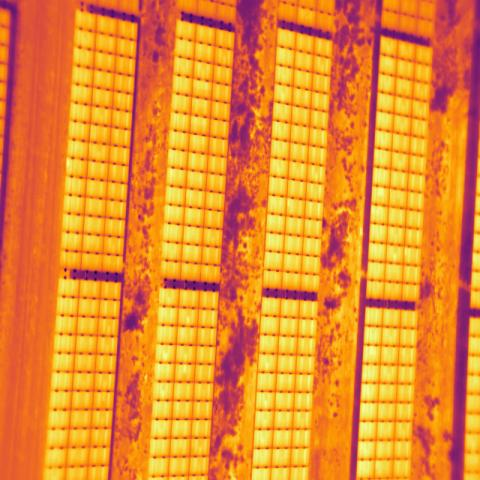fault: (297, 6, 316, 30)
